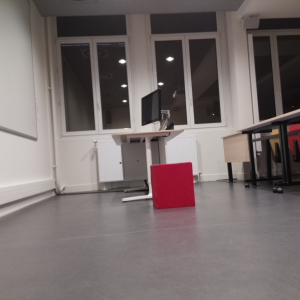medium: (148, 160, 200, 211)
